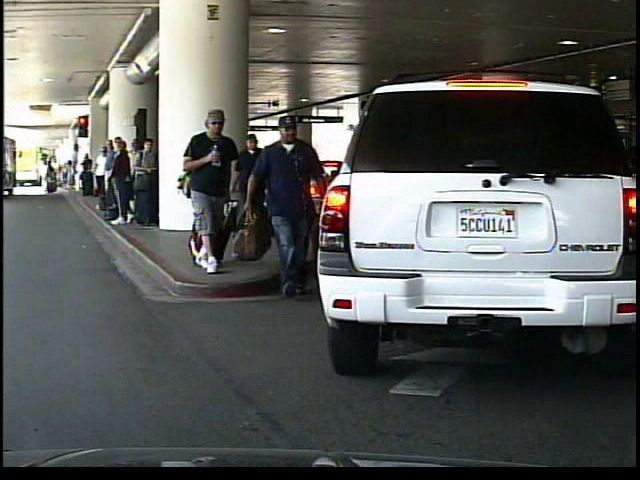person: (245, 101, 321, 295), (181, 105, 242, 275), (235, 135, 275, 242)
